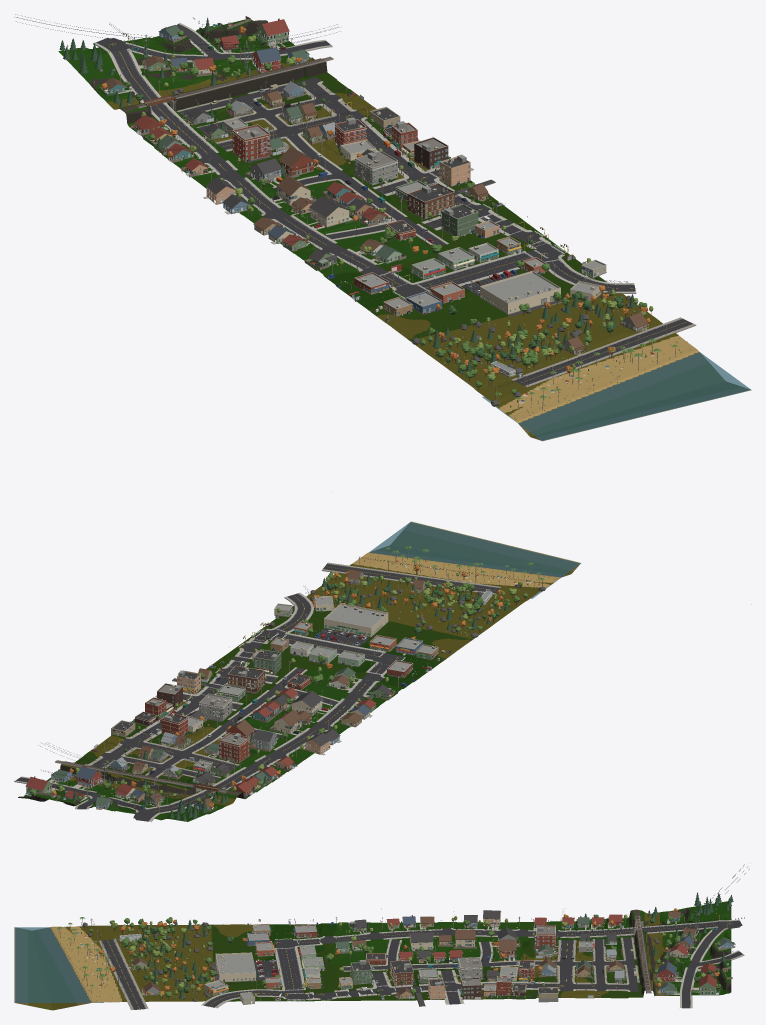
Rendered from PortSolace_Exterior_part2of5.fbx.
3 views of the same model, one above another, from view 1: azimuth 30°, elevation 25°; view 2: azimuth 150°, elevation 25°; view 3: azimuth 270°, elevation 25° (orthographic). The views are drawn at different scales.
Parts seen in each view (by area): view 1: Terrain_0_3, Terrain_0_2, Roads_C1_3.asphalt, Roads_C1_2.asphalt, Sea_0_3, Roads_C1_1.asphalt, Terrain_2_2, Terrain_7_2, Terrain_1_3, Sea_0_2, Terrain_1_2, Terrain_7_3 (+25 smaller); view 2: Terrain_0_3, Terrain_0_2, Roads_C1_1.asphalt, Sea_0_3, Roads_C1_3.asphalt, Roads_C1_2.asphalt, Terrain_2_2, Terrain_1_3, Sea_0_2, Terrain_1_2, Terrain_3_2, Terrain_7_2 (+25 smaller); view 3: Roads_C1_3.asphalt, Terrain_0_3, Terrain_0_2, Roads_C1_1.asphalt, Sea_0_3, Roads_C1_2.asphalt, Terrain_2_2, Terrain_7_2, Terrain_1_3, Terrain_1_2, Terrain_7_3, Sea_0_2 (+34 smaller).
Boxes of the visible parts, <box> form: Terrain_0_3: <box>587,345,751,415</box>; Terrain_0_2: <box>482,370,646,440</box>; Roads_C1_3.asphalt: <box>96,24,366,163</box>; Roads_C1_2.asphalt: <box>210,125,490,253</box>; Sea_0_3: <box>609,352,750,415</box>; Roads_C1_1.asphalt: <box>334,213,635,297</box>; Terrain_2_2: <box>361,285,525,349</box>; Terrain_7_2: <box>58,36,220,109</box>; Terrain_1_3: <box>526,300,690,369</box>; Sea_0_2: <box>482,387,646,441</box>; Terrain_1_2: <box>421,325,586,394</box>; Terrain_7_3: <box>170,19,327,83</box>; Terrain_0_3: <box>362,521,495,576</box>; Terrain_0_2: <box>447,542,580,596</box>; Roads_C1_1.asphalt: <box>229,593,403,694</box>; Sea_0_3: <box>369,522,495,564</box>; Roads_C1_3.asphalt: <box>16,735,267,821</box>; Roads_C1_2.asphalt: <box>139,667,365,764</box>; Terrain_2_2: <box>360,612,482,667</box>; Terrain_1_3: <box>315,557,445,612</box>; Sea_0_2: <box>465,542,580,598</box>; Terrain_1_2: <box>398,577,531,632</box>; Terrain_3_2: <box>308,656,433,701</box>; Terrain_7_2: <box>103,779,236,821</box>; Roads_C1_3.asphalt: <box>548,920,742,1008</box>; Terrain_0_3: <box>14,964,103,1010</box>; Terrain_0_2: <box>14,925,103,970</box>; Roads_C1_1.asphalt: <box>204,934,384,1007</box>; Sea_0_3: <box>14,965,103,1002</box>; Roads_C1_2.asphalt: <box>368,928,555,1004</box>; Terrain_2_2: <box>193,924,282,963</box>; Terrain_7_2: <box>641,901,731,955</box>; Terrain_1_3: <box>104,963,193,1002</box>; Terrain_1_2: <box>104,924,193,963</box>; Terrain_7_3: <box>641,945,731,997</box>; Sea_0_2: <box>14,927,70,964</box>.
Size of the model in its own units: 110000 by 18873 by 210710.
